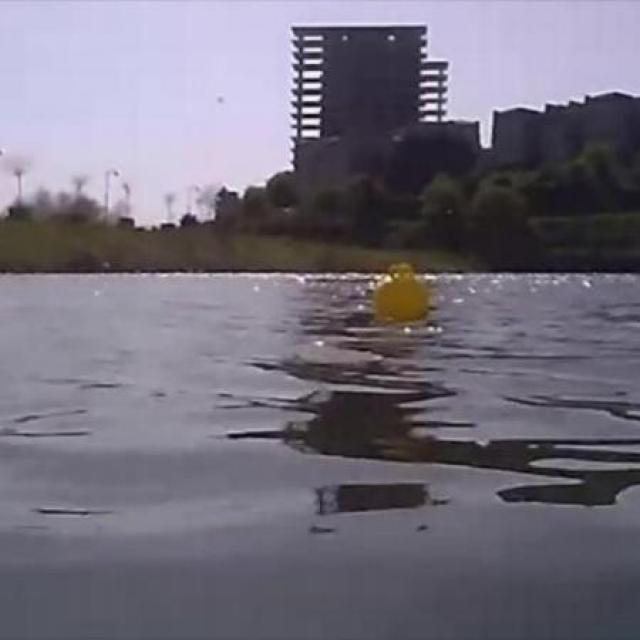buoy: (377, 266, 428, 317)
